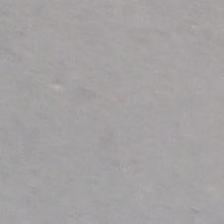Non_Crack: (11, 17, 186, 180)
